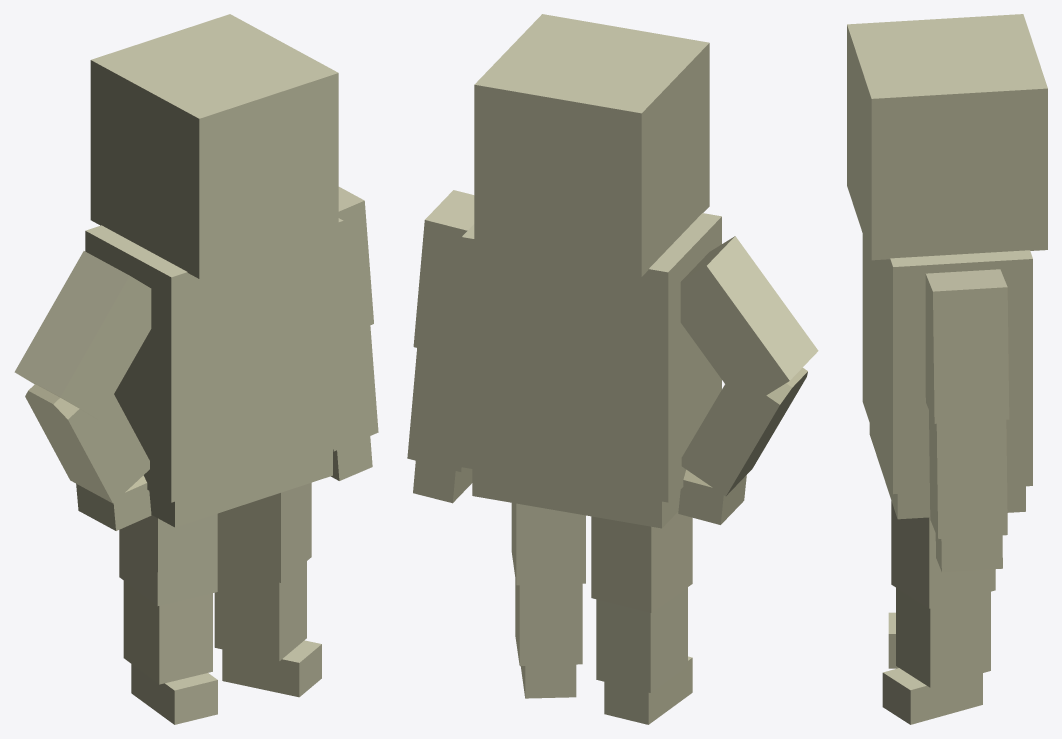
Rendered from AI_Prop_Scale_Mannequin.fbx.
3 renders of one model, left to right at view 1: azimuth 30°, elevation 25°; view 2: azimuth 150°, elevation 25°; view 3: azimuth 270°, elevation 25°, orthographic. The views are drawn at different scales.
Visible parts, largest first — view 1: SI_Prop_Scale_Mannequin; view 2: SI_Prop_Scale_Mannequin; view 3: SI_Prop_Scale_Mannequin.
Part boxes in pixels (x1,y1,x2,y2): SI_Prop_Scale_Mannequin: [14, 14, 378, 724]; SI_Prop_Scale_Mannequin: [407, 14, 818, 724]; SI_Prop_Scale_Mannequin: [847, 14, 1047, 724].
Bounding box in the file's own units: 1.65 × 2.75 × 0.8023.
